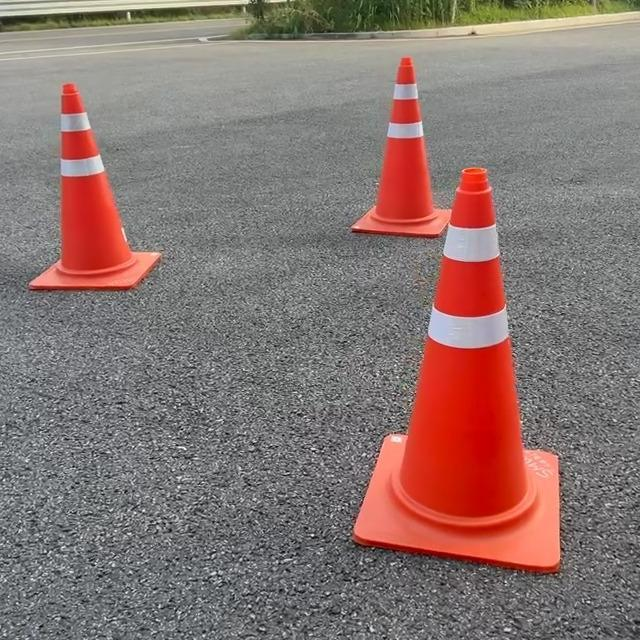fallen_object: (367, 185, 587, 579), (339, 0, 500, 240), (0, 65, 181, 251)
